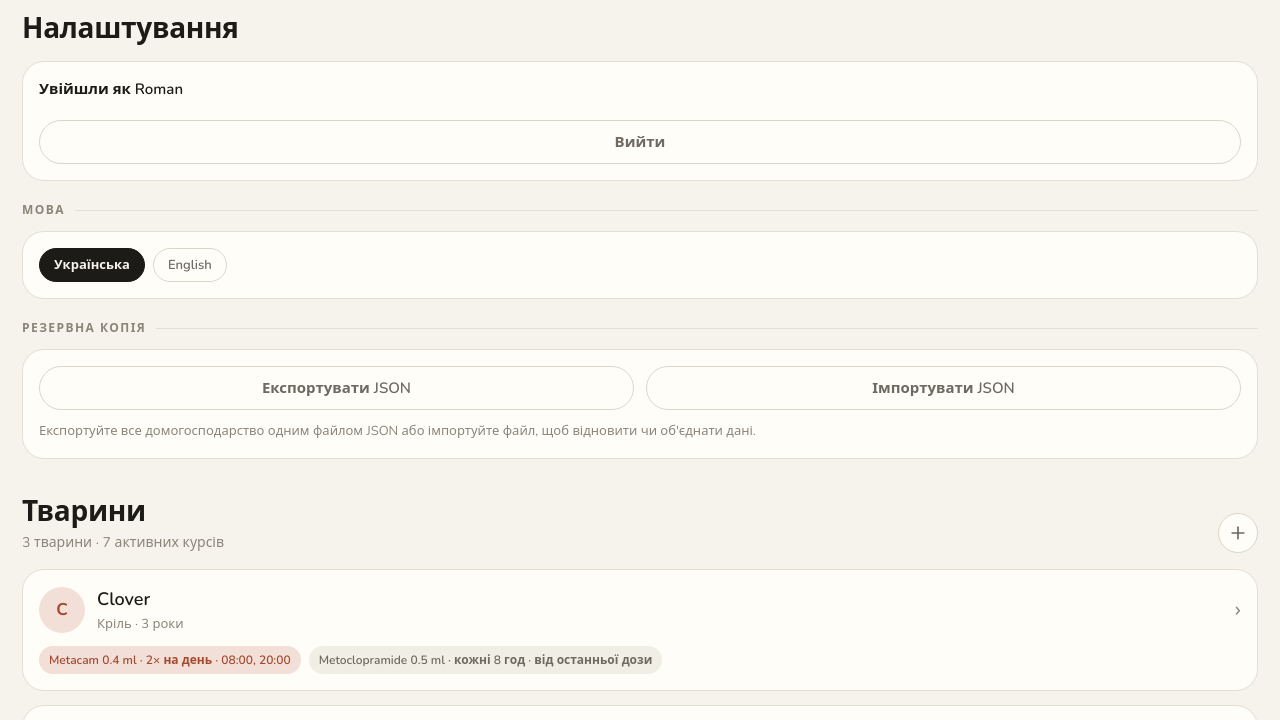
Scenario: setLocale — round trip and cross-screen re-render › re-renders a second, unrelated screen sharing the same provider, not just the control's own screen
The width and height of the screenshot is (1280, 720).
Check: the heading "Налаштування" is shown, box [22,14,239,45]
Check: the heading "Тварини" is shown, box [22,493,146,531]
What coordinates should you click on to do the following:
click the button "English"
I would click on:
 (190, 265)
Its box is [153,248,227,282].
(page scrolled)
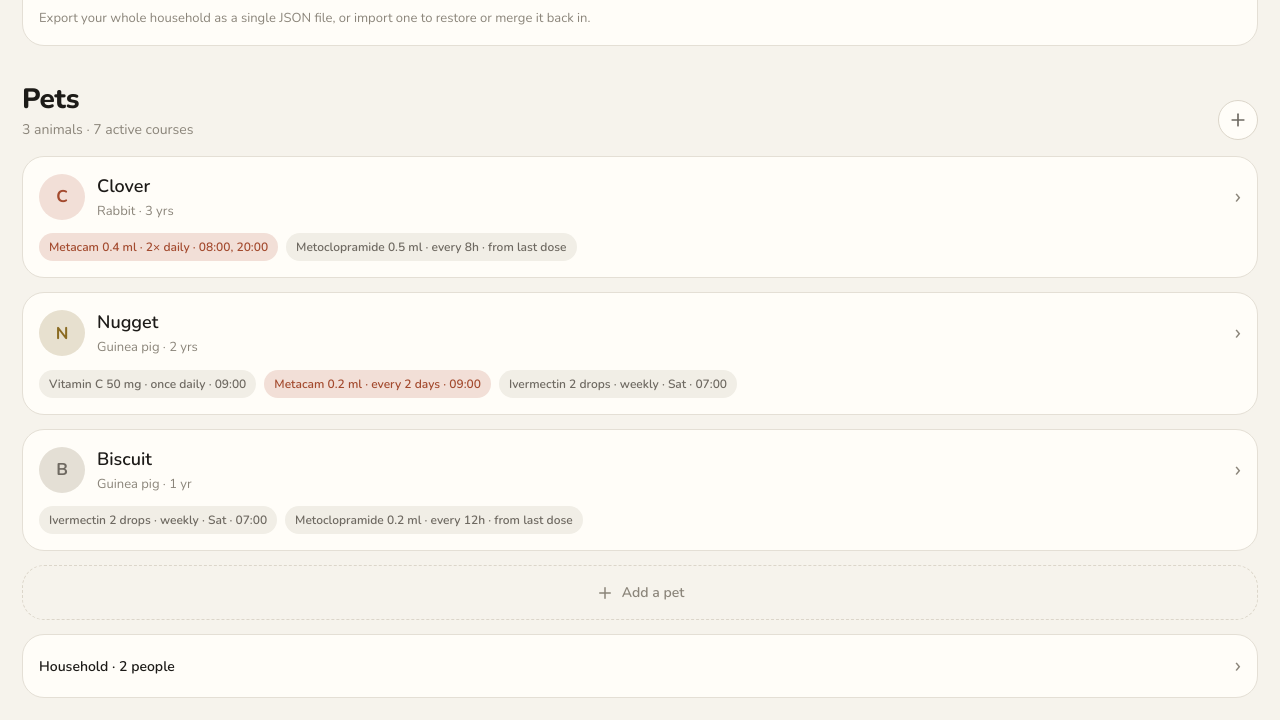
Check: the heading "Налаштування" is gone
Check: the heading "Pets" is shown, box [22,80,79,118]
Check: the heading "Тварини" is gone
